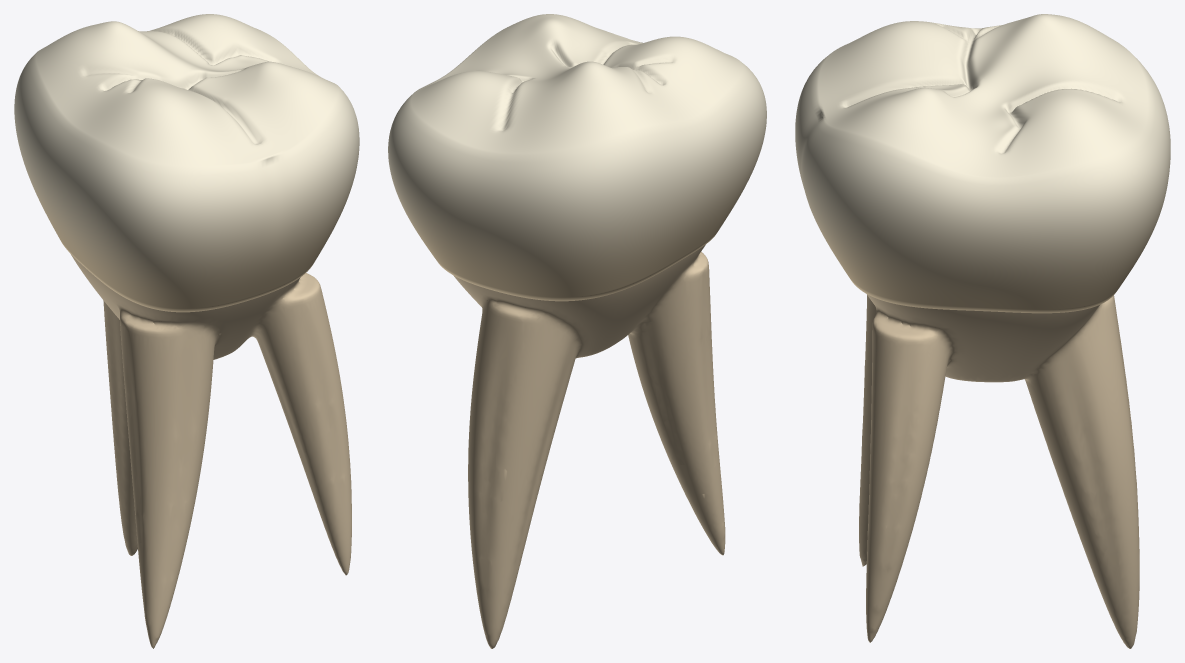
The model's file is molar_16.glb.
The picture shows the model from 3 angles, left to right: view 1: azimuth 30°, elevation 25°; view 2: azimuth 150°, elevation 25°; view 3: azimuth 270°, elevation 25°; orthographic projection. The views are drawn at different scales.
Parts seen in each view (by area): view 1: FDI_16_Corona, FDI_16_Raices; view 2: FDI_16_Corona, FDI_16_Raices; view 3: FDI_16_Corona, FDI_16_Raices.
Boxes of the visible parts, <box> form: FDI_16_Corona: <box>14,14,359,312</box>; FDI_16_Raices: <box>71,254,351,648</box>; FDI_16_Corona: <box>388,14,766,301</box>; FDI_16_Raices: <box>453,244,725,648</box>; FDI_16_Corona: <box>795,14,1170,313</box>; FDI_16_Raices: <box>859,294,1139,648</box>.
Bounding box in the file's own units: 0.0108 × 0.021 × 0.0118.
